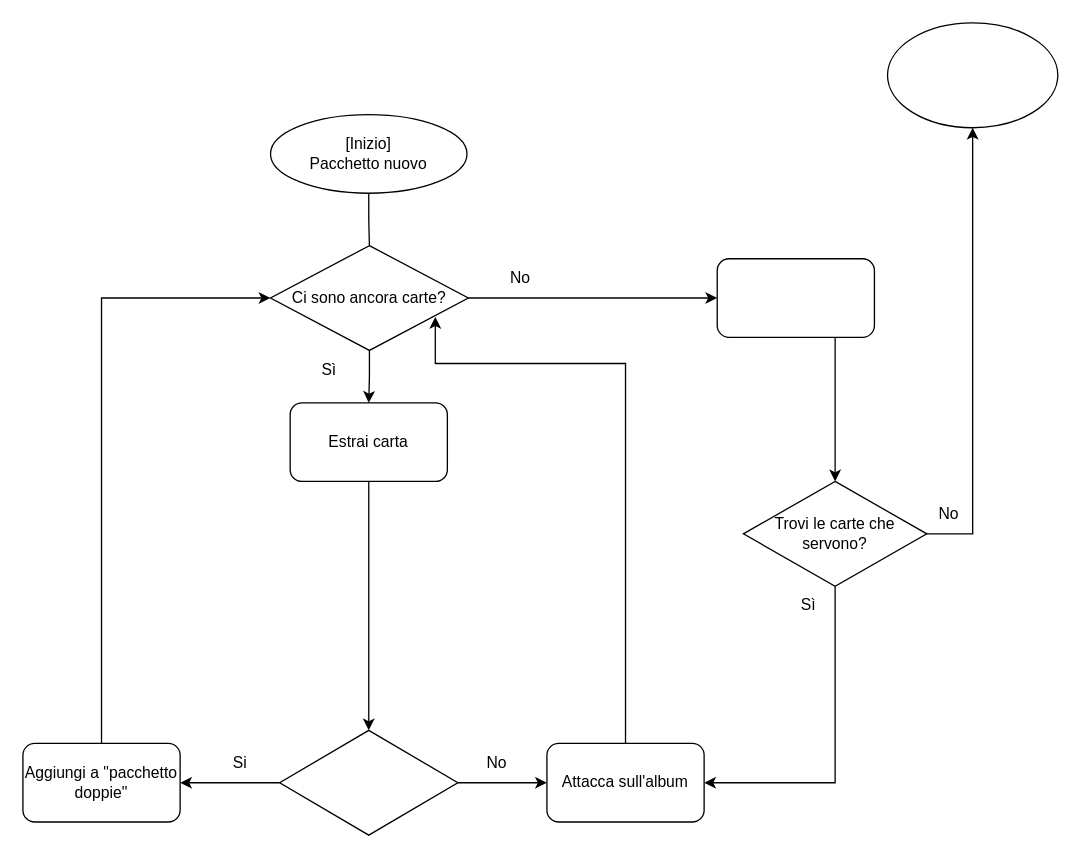
The diagram is 1081 pixels wide and 858 high, and some of its shapes have lost their labels. Each missing label, with the centre of its shape:
[Fine] Compra pacchetto nuovo: point 972,75
Aspetta sabato: point 795,297
Carta presente nell'album?: point 368,782
